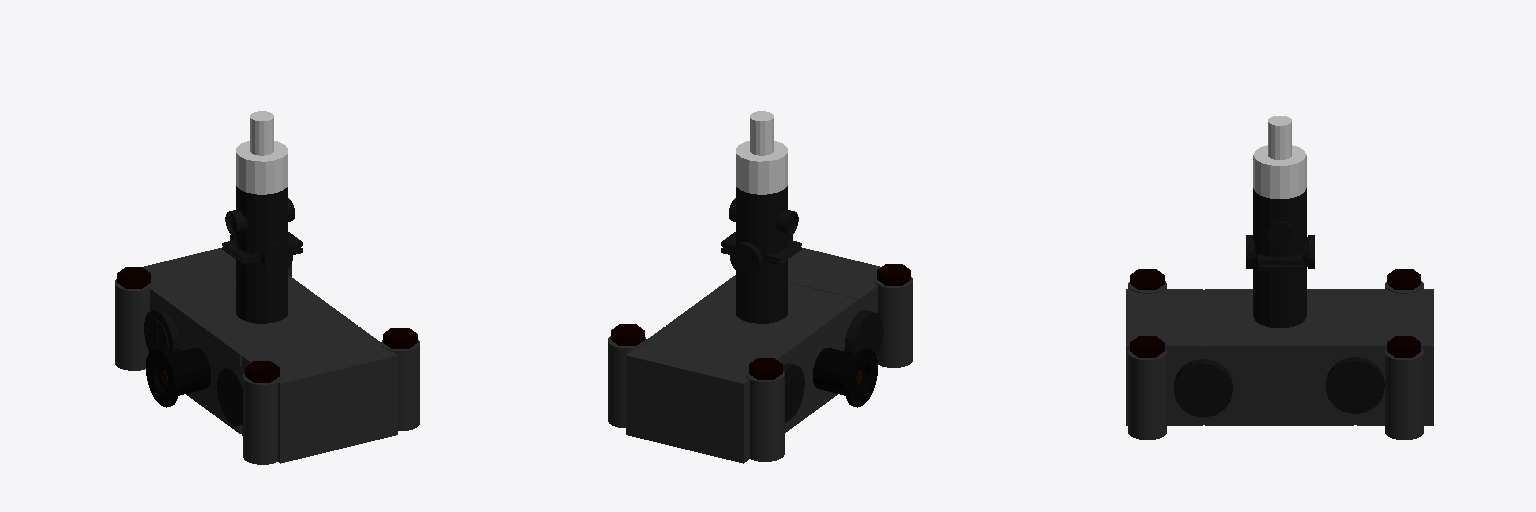
File: пупупу.obj
3 views of the same model, side by side, from view 1: azimuth 30°, elevation 25°; view 2: azimuth 150°, elevation 25°; view 3: azimuth 270°, elevation 25° (orthographic).
Parts seen in each view (by area): view 1: Куб, Cylinder.006, Cylinder, Cylinder.001, Cylinder.008, Cylinder.003, Cylinder.005, Cylinder.004, Cylinder.007; view 2: Куб, Cylinder.006, Cylinder.001, Cylinder, Cylinder.008, Cylinder.002, Cylinder.005, Cylinder.007, Cylinder.004; view 3: Куб, Cylinder.006, Cylinder.003, Cylinder.002, Cylinder.005, Cylinder.004, Cylinder.007, Cylinder, Cylinder.001.
Boxes of the visible parts, x1,y1,x2,y2 form: Куб: [143, 248, 397, 463]; Cylinder.006: [222, 141, 302, 323]; Cylinder: [243, 361, 281, 464]; Cylinder.001: [115, 267, 153, 370]; Cylinder.008: [146, 348, 210, 407]; Cylinder.003: [381, 328, 419, 430]; Cylinder.005: [217, 366, 244, 425]; Cylinder.004: [144, 308, 179, 353]; Cylinder.007: [250, 111, 273, 155]; Куб: [626, 248, 880, 463]; Cylinder.006: [721, 141, 801, 323]; Cylinder.001: [746, 358, 784, 461]; Cylinder: [874, 264, 912, 367]; Cylinder.008: [813, 348, 877, 407]; Cylinder.002: [608, 324, 646, 427]; Cylinder.005: [844, 310, 883, 355]; Cylinder.007: [750, 111, 773, 155]; Cylinder.004: [783, 363, 804, 422]; Куб: [1126, 289, 1433, 425]; Cylinder.006: [1246, 145, 1314, 327]; Cylinder.003: [1128, 336, 1166, 439]; Cylinder.002: [1385, 336, 1423, 439]; Cylinder.005: [1174, 358, 1232, 417]; Cylinder.004: [1326, 357, 1384, 413]; Cylinder.007: [1268, 116, 1291, 159]; Cylinder: [1128, 269, 1166, 293]; Cylinder.001: [1385, 269, 1423, 293].
Bounding box in the file's own units: 1.62 × 2.24 × 2.27.